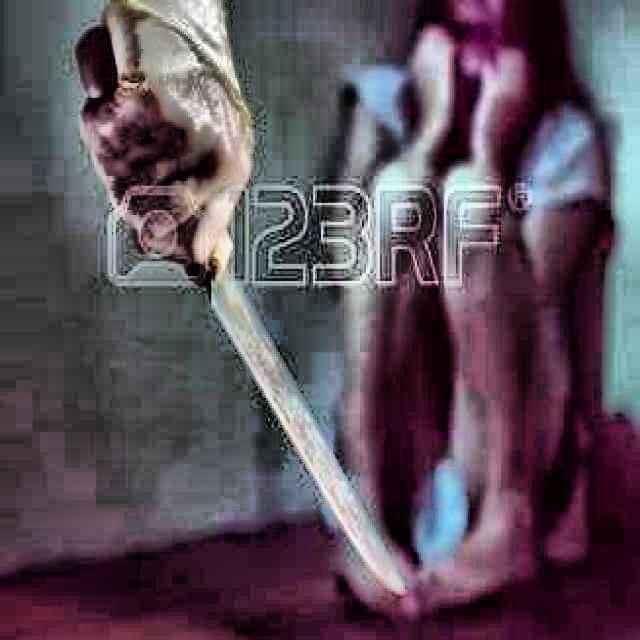knife: (77, 29, 406, 596)
